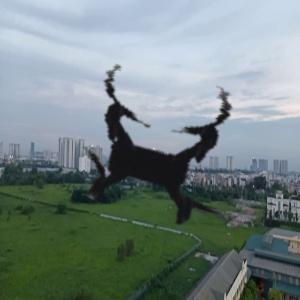drone: (8, 8, 300, 300)
